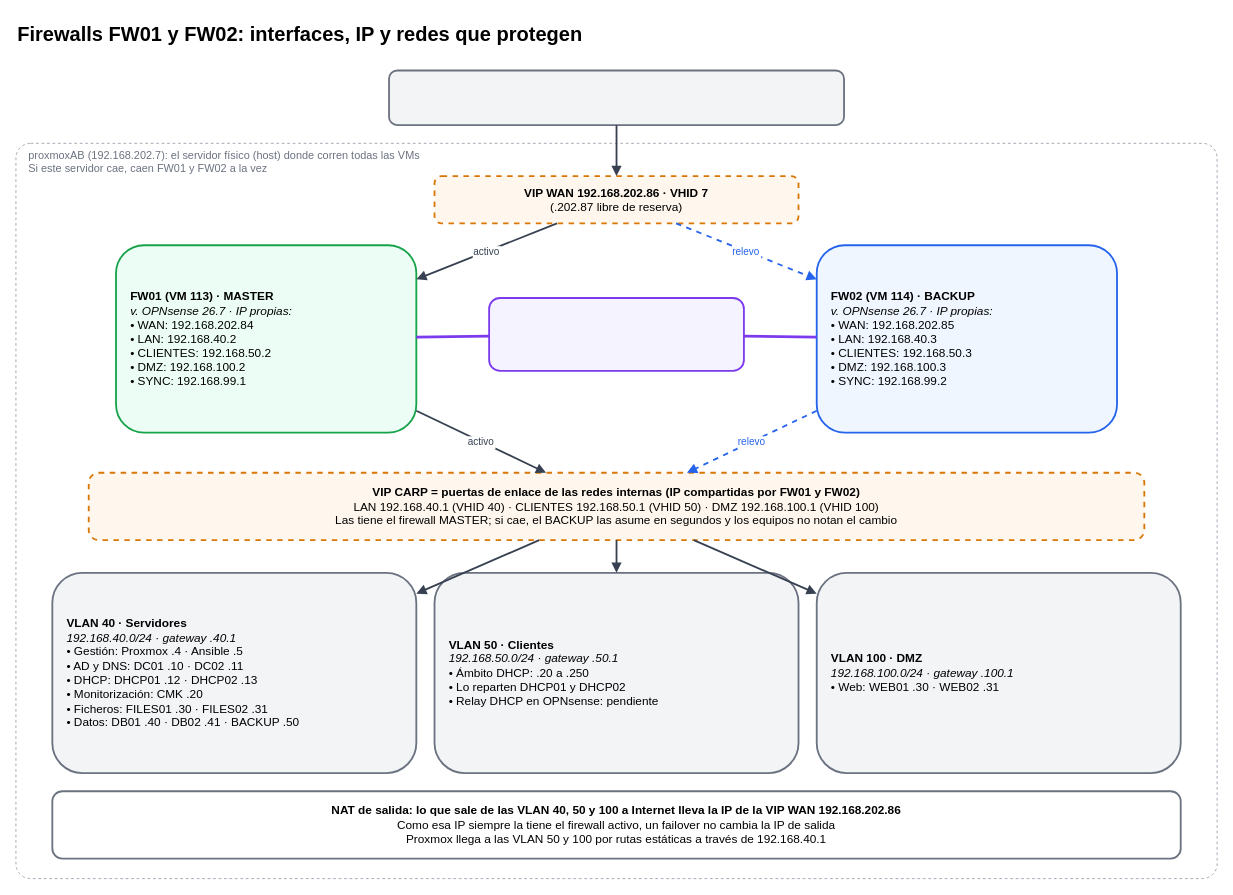
Image size: 1233x895. Some labels were removed from this diagram. Here are the shapes that lost their labels. From the top down, the centre of each, then its label:
At pixel 616 97: "Red del aula 192.168.200.0/22 Puerta de enlace 192.168.200.254".
At pixel 616 334: "VLAN 99 · SYNC 192.168.99.0/24 pfsync + XMLRPC".
